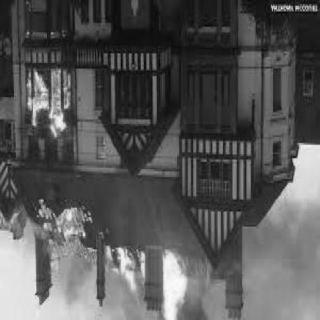Fire: (157, 248, 194, 320)
